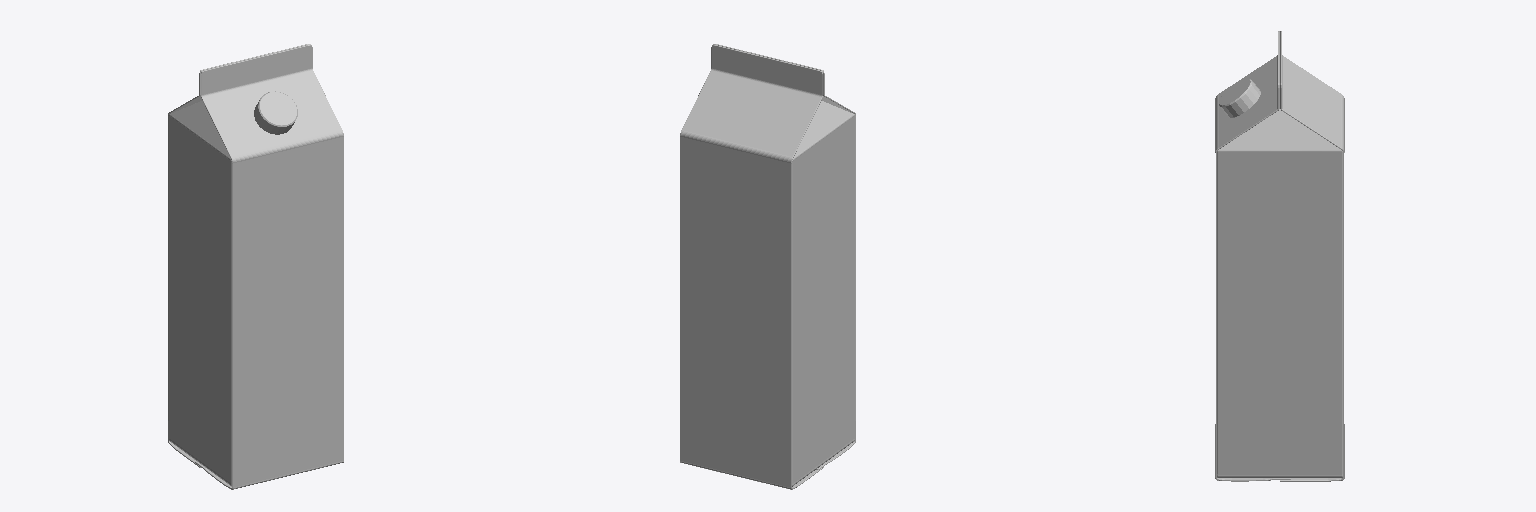
File: leche.obj
3 renders of one model, left to right at view 1: azimuth 30°, elevation 25°; view 2: azimuth 150°, elevation 25°; view 3: azimuth 270°, elevation 25°, orthographic.
Visible parts, largest first — view 1: milk_pack2; view 2: milk_pack2; view 3: milk_pack2.
Part boxes in pixels (left/top/right/bottom): milk_pack2: left=168, top=44, right=343, bottom=489; milk_pack2: left=680, top=44, right=855, bottom=489; milk_pack2: left=1215, top=31, right=1344, bottom=481.
Size of the model in its own units: 1 by 3.41 by 1.